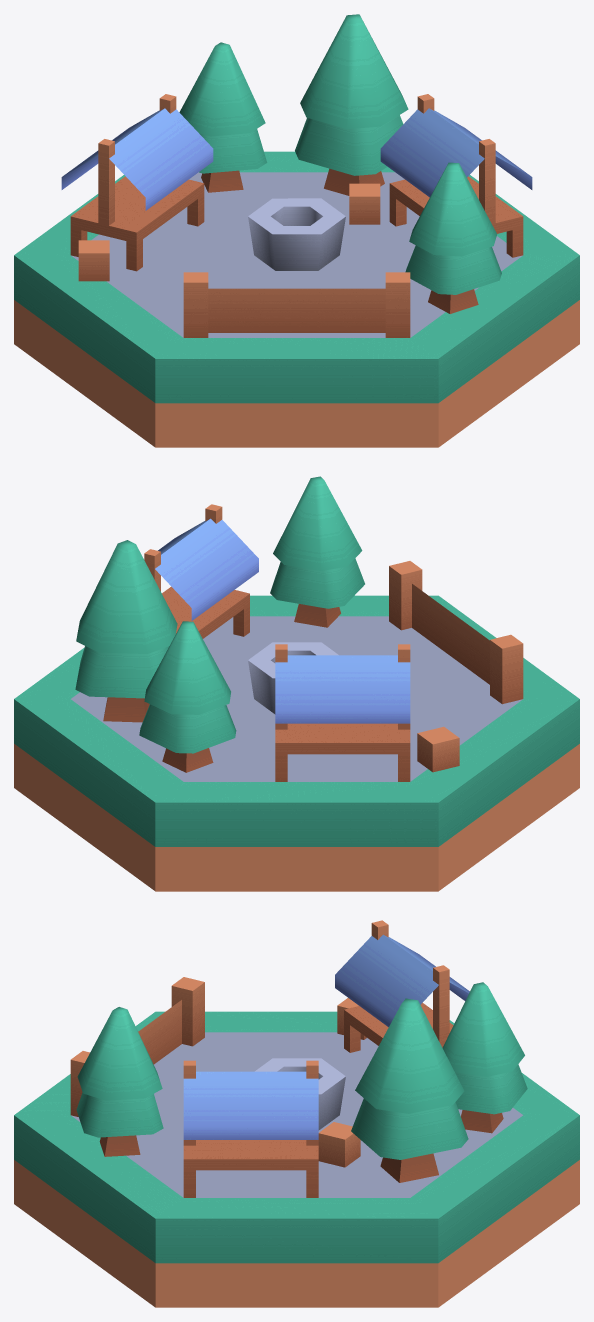
The model's file is building-market.glb.
3 renders of one model, top to bottom at view 1: azimuth 30°, elevation 25°; view 2: azimuth 150°, elevation 25°; view 3: azimuth 270°, elevation 25°, orthographic.
Visible parts, largest first — view 1: building-market; view 2: building-market; view 3: building-market.
Part boxes in pixels (bbox=[...]): building-market: bbox=[14, 14, 579, 447]; building-market: bbox=[14, 476, 579, 891]; building-market: bbox=[14, 920, 579, 1307].
Size of the model in its own units: 1 by 0.58 by 1.15.
Materials: 1 (1 with a texture image).
